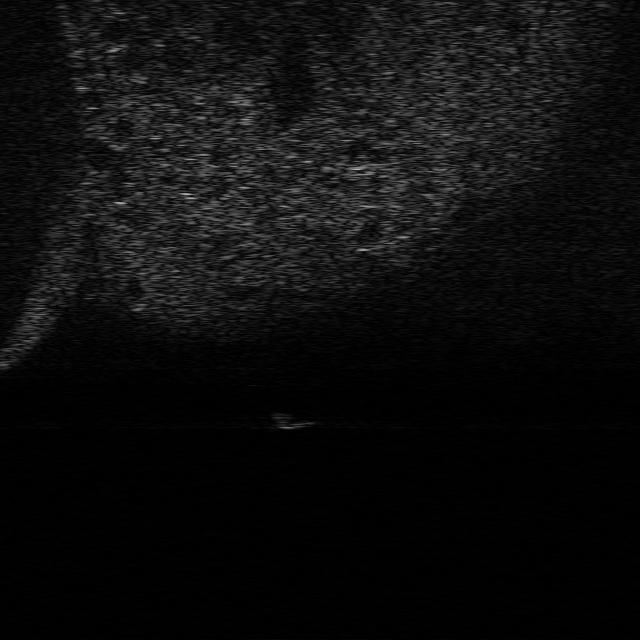cube: (271, 407, 314, 432)
